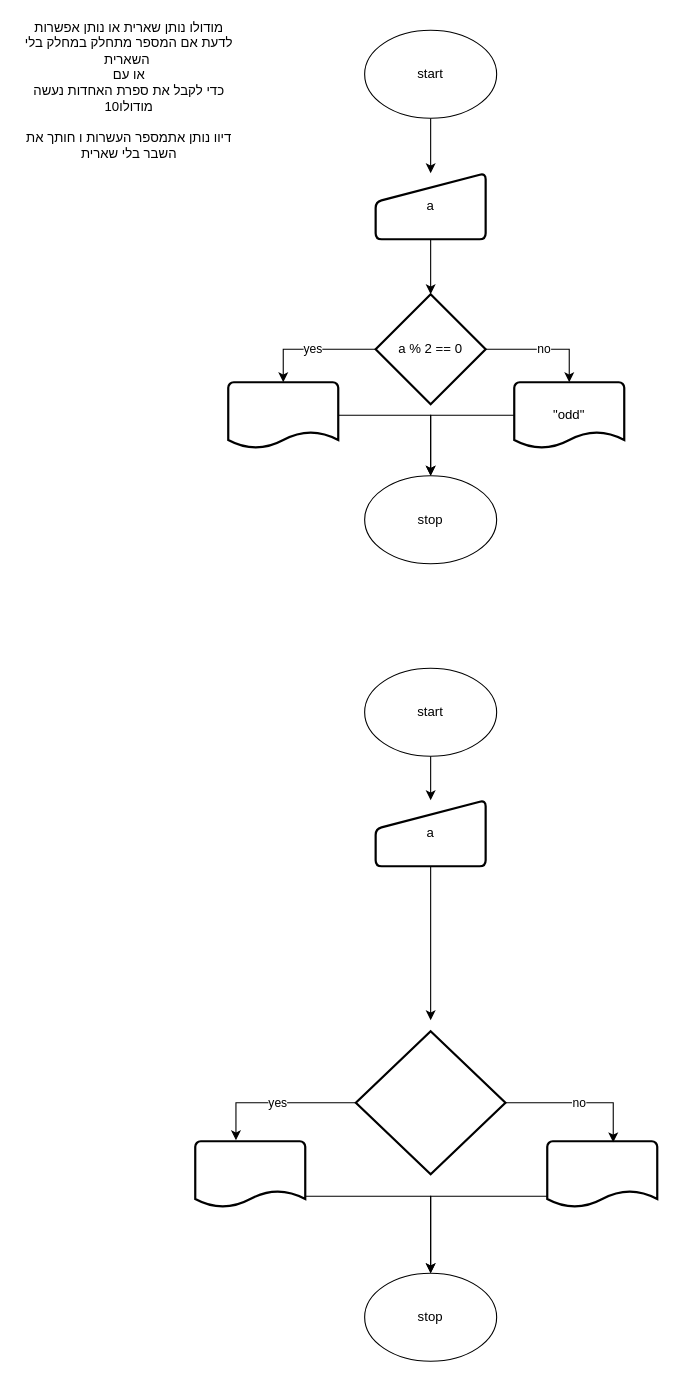
The diagram is 677 pixels wide and 1381 high, and some of its shapes have lost their labels. Each missing label, with the centre of its shape:
"equal": the point at 250,1174
"even": the point at 283,415
"not equal": the point at 602,1174
a\\10 == a%10: the point at 430,1102
